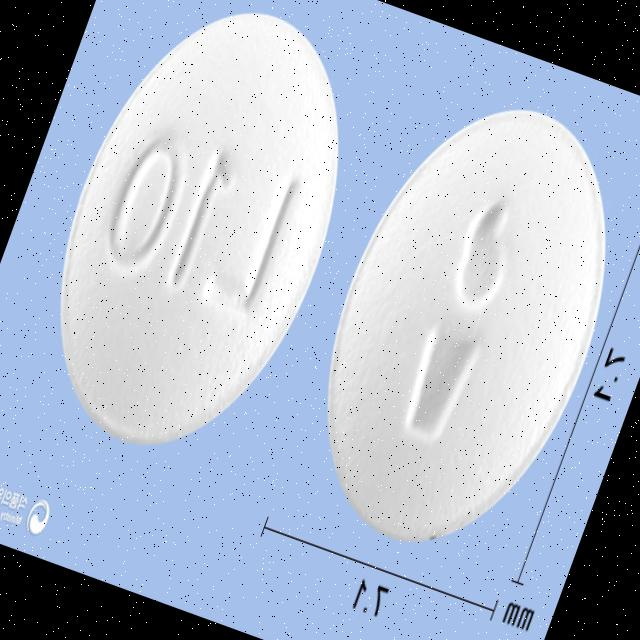Leflu - 20mg: (3, 0, 396, 485), (272, 65, 640, 580)
